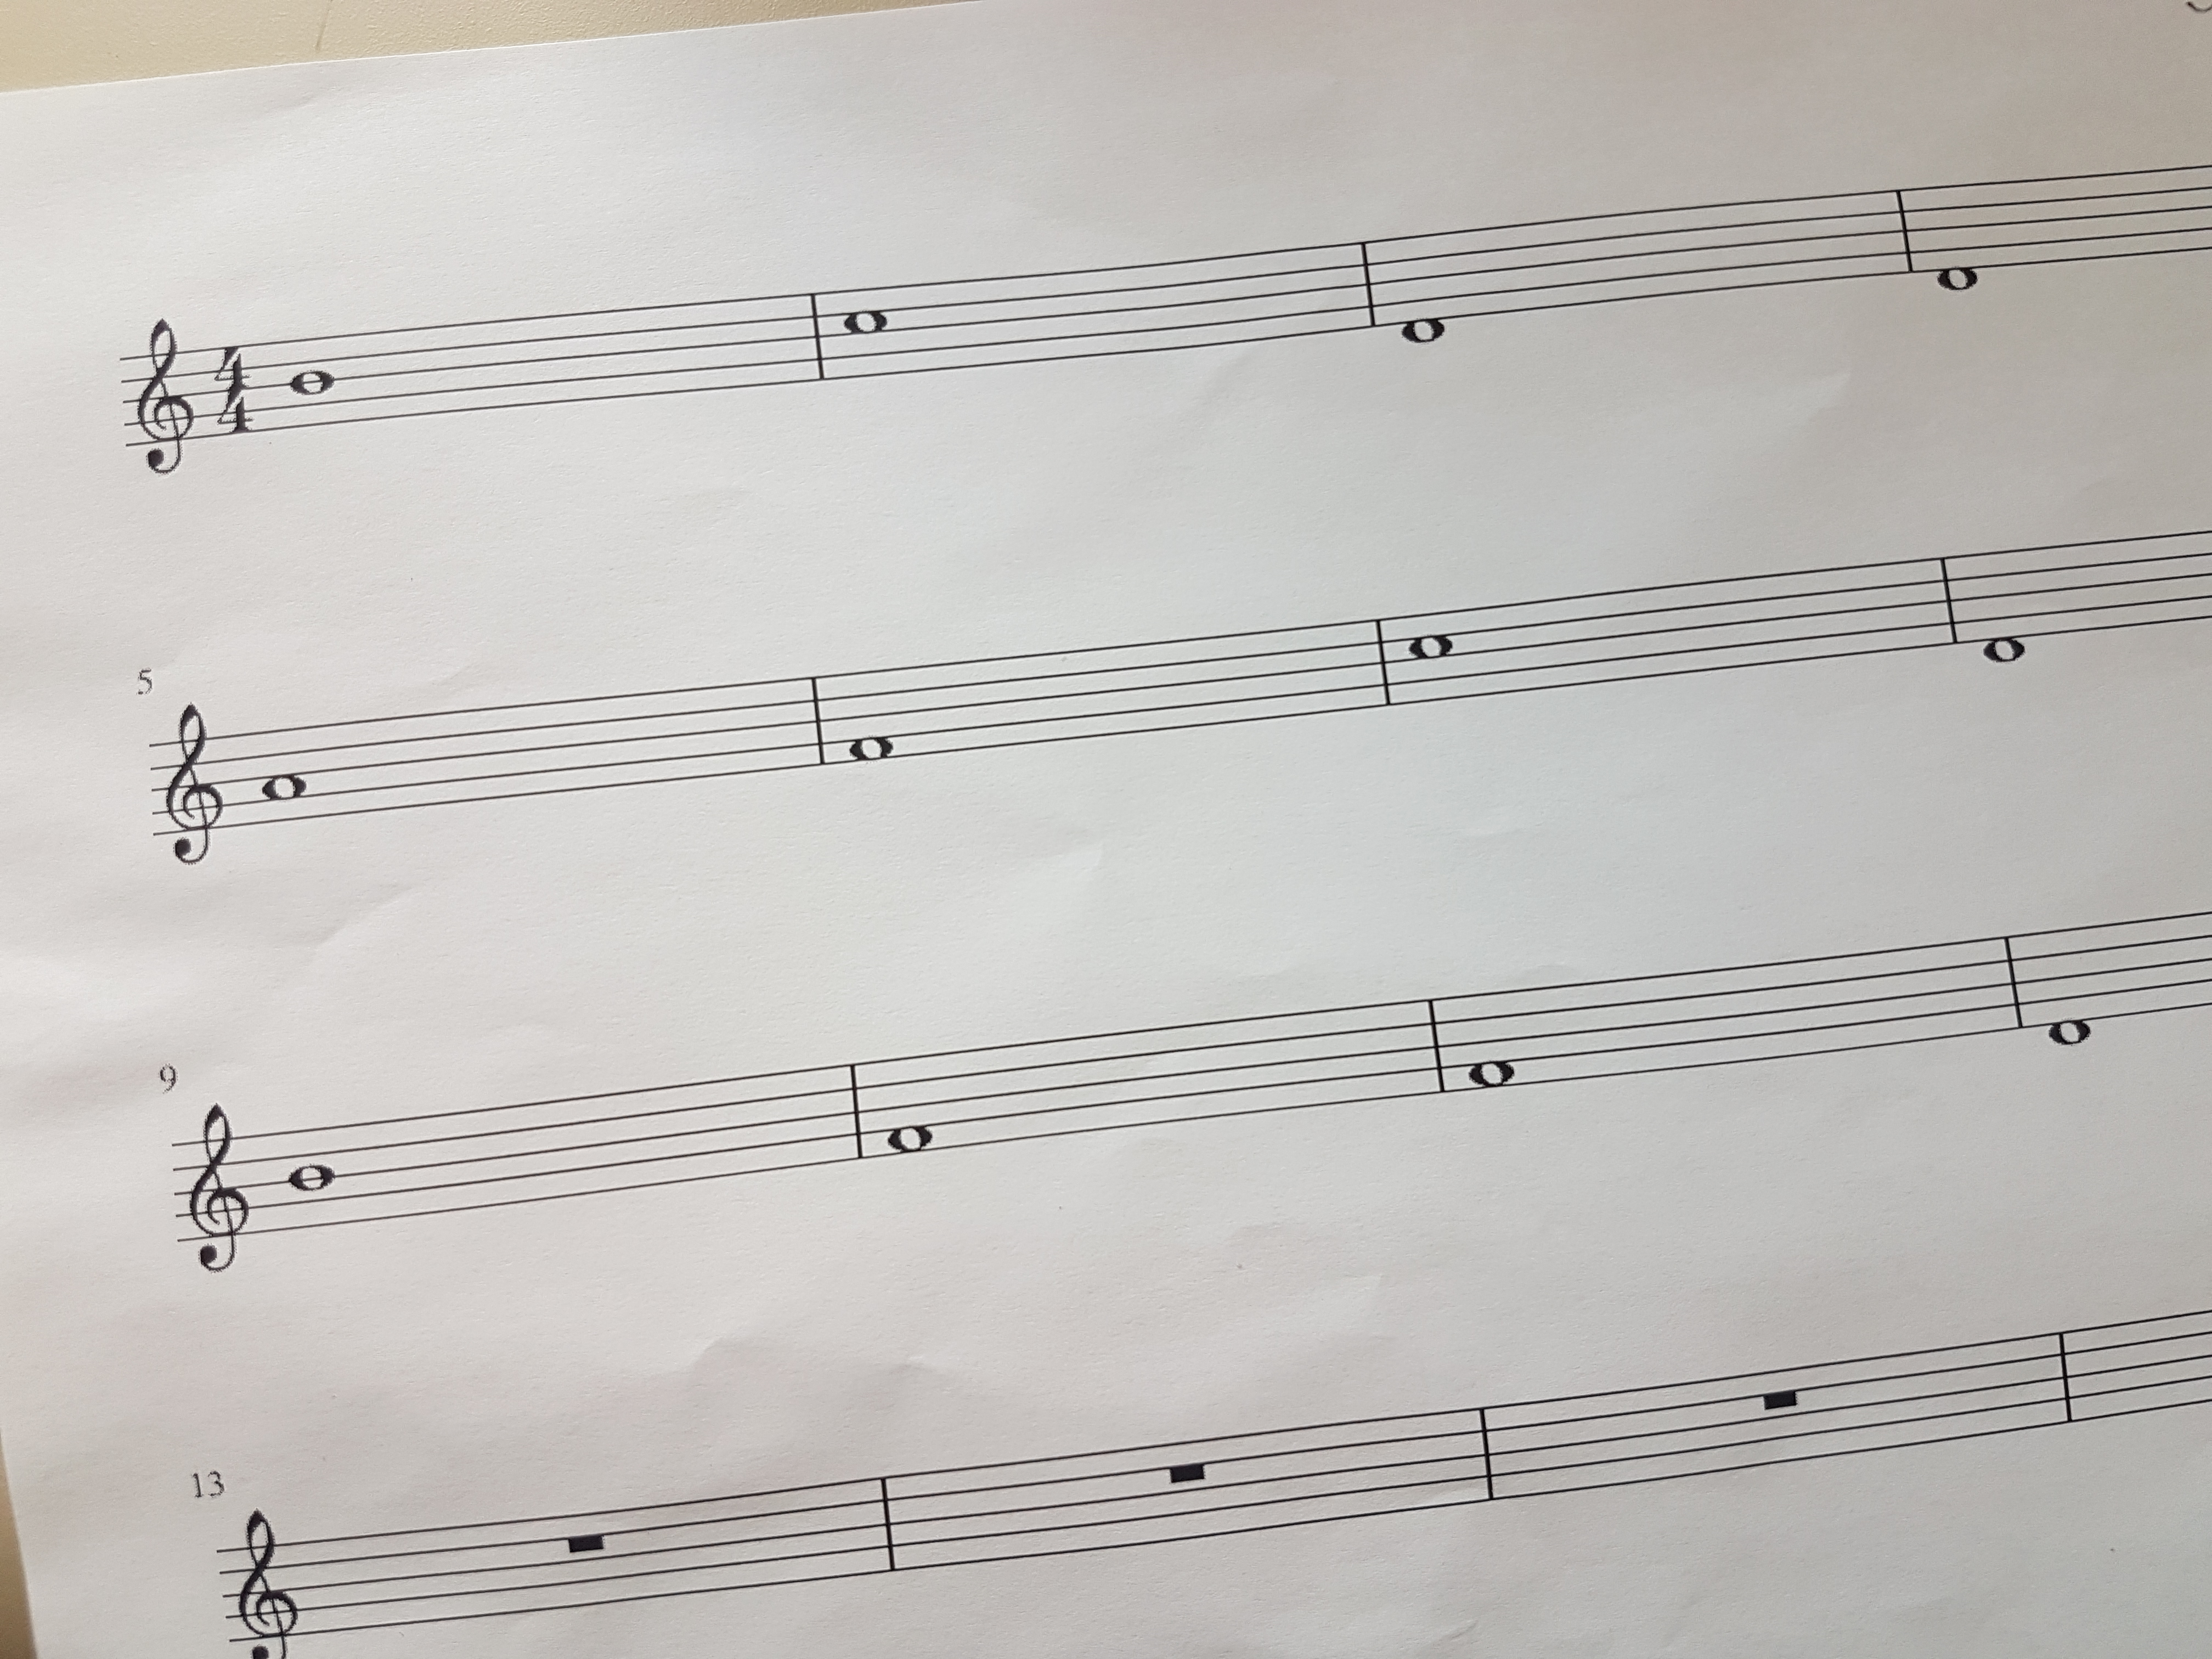key: (181, 1094, 253, 1288), (129, 300, 197, 486), (157, 695, 226, 873), (228, 1500, 301, 1659)
pipe: (1470, 1392, 1508, 1513), (869, 1464, 906, 1582), (801, 655, 834, 782), (1996, 918, 2031, 1039), (2048, 1317, 2083, 1438), (1350, 230, 1386, 336), (1367, 601, 1400, 718), (840, 1051, 873, 1168), (1935, 540, 1966, 657), (1890, 176, 1923, 286), (1421, 986, 1451, 1103), (803, 277, 833, 390)
semibreve_a: (254, 711, 315, 856)
semibreve_c: (1404, 584, 1458, 725), (840, 261, 892, 399)
semibreve_d: (1925, 162, 1986, 324), (1393, 213, 1456, 368), (1977, 525, 2036, 688), (2043, 897, 2095, 1070)
semibreve_f: (841, 636, 900, 793), (1461, 969, 1521, 1124), (883, 1025, 935, 1182)
semibreve_h: (284, 1094, 345, 1255), (282, 314, 343, 455)
